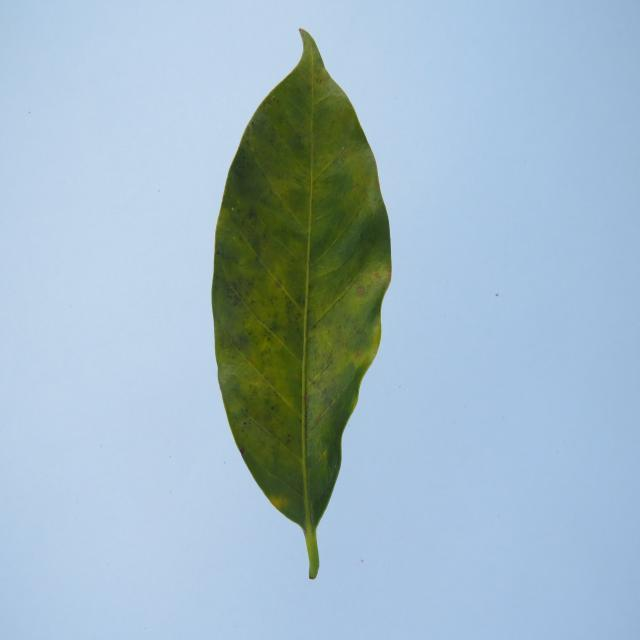DeficienciaNutricional-Nitrogeno: (212, 33, 391, 576)
